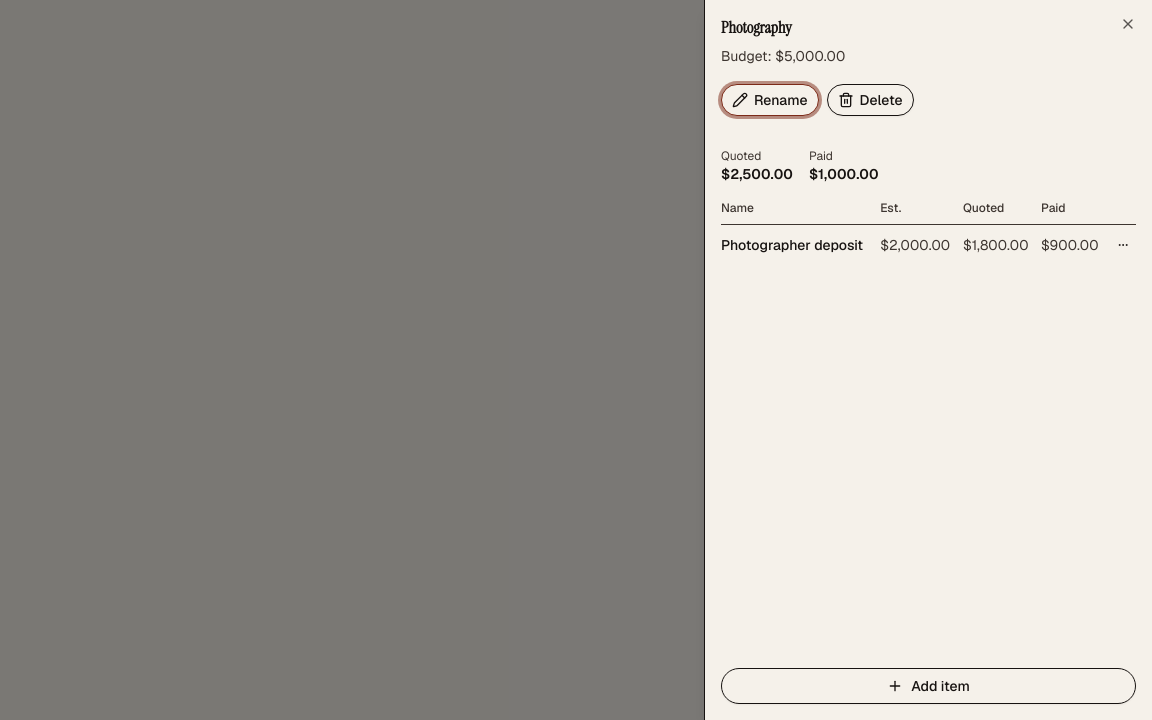
Test: BudgetCategoryPanel › closes the delete item dialog when cancel is clicked
What coordinates should you click on to do the following:
click the button named "Actions for Photographer deposit"
I would click on:
 (1122, 245)
Its box is [1110,233,1134,257].
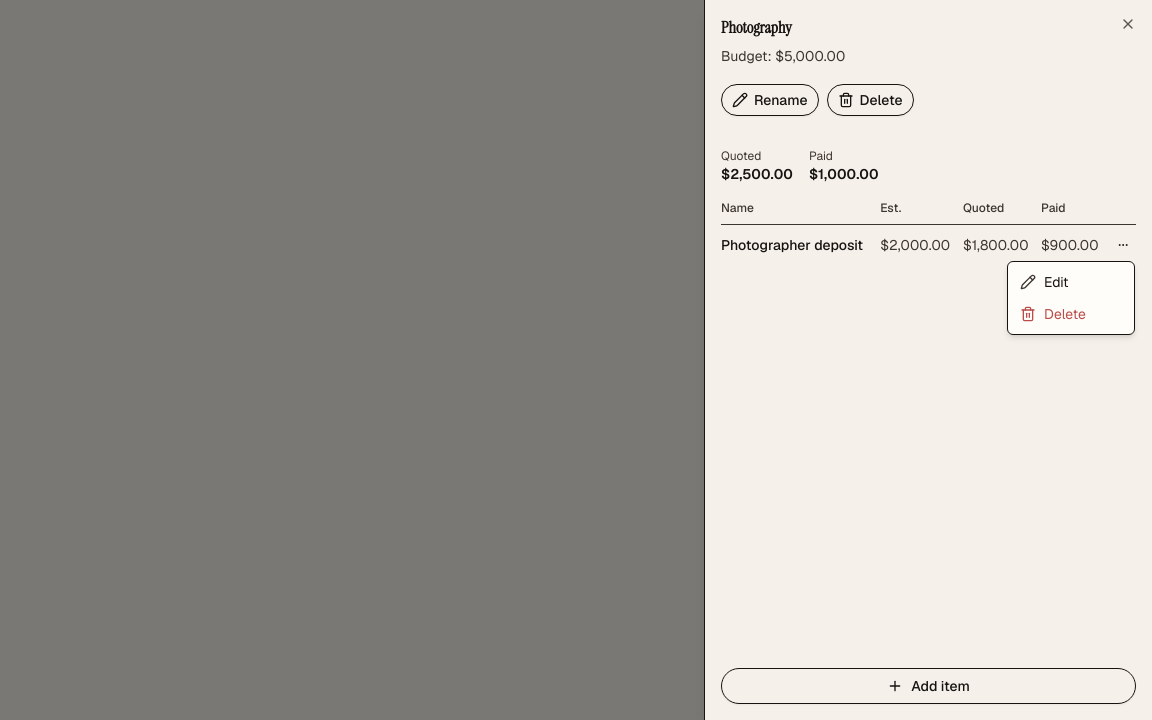
What coordinates should you click on to do the following:
click the menu item "Delete"
I would click on:
 (1053, 314)
Its box is [1020,305,1086,323].
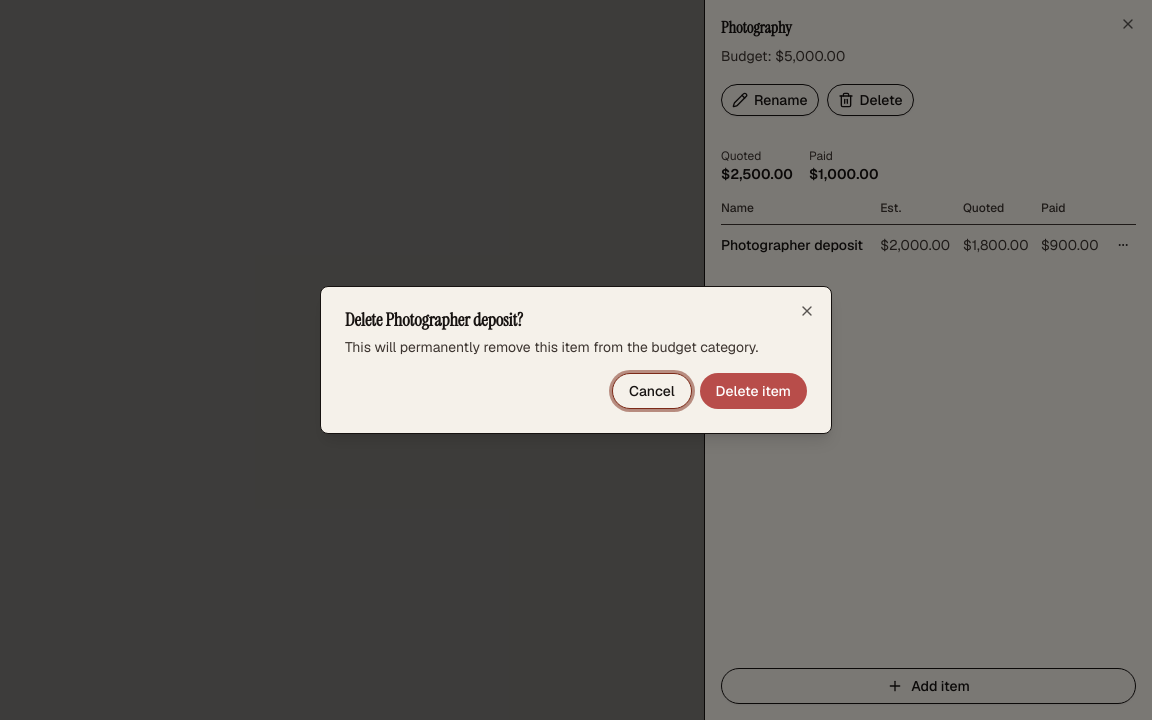
Expected: the heading "Delete Photographer deposit?" is shown, [345,308,523,332]
What coordinates should you click on to do the following:
click the button "Cancel"
I would click on:
 (652, 391)
Its box is [612,373,692,409].
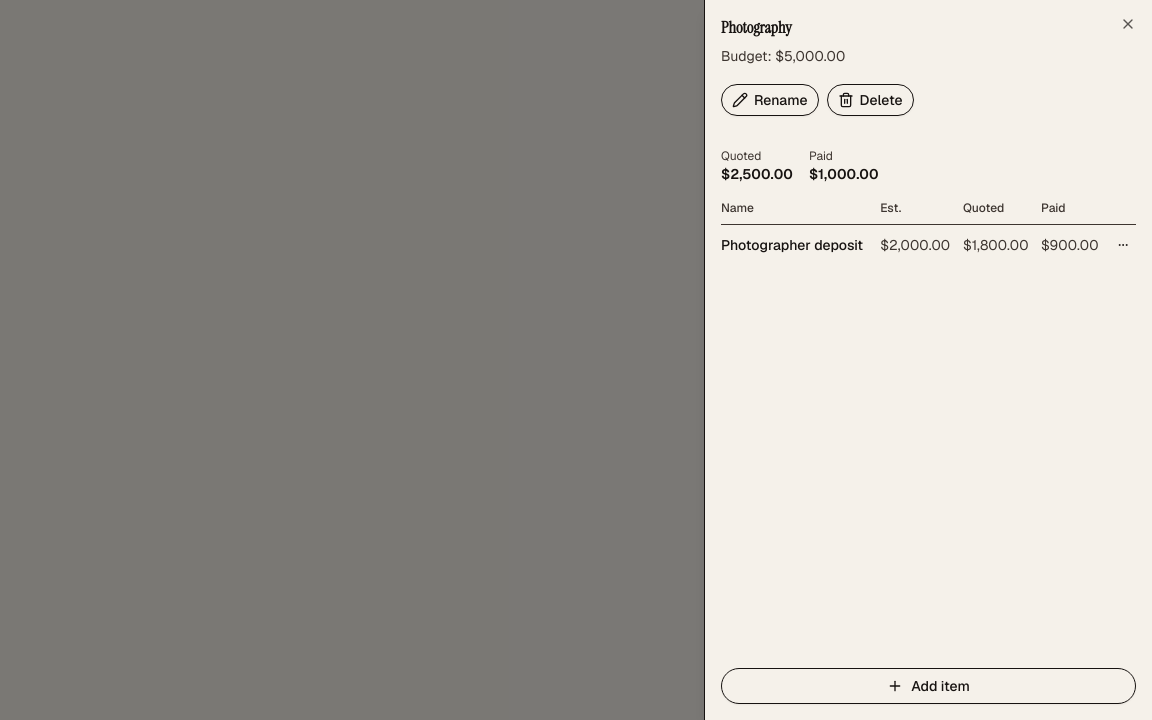
Expected: the heading "Delete Photographer deposit?" is gone
